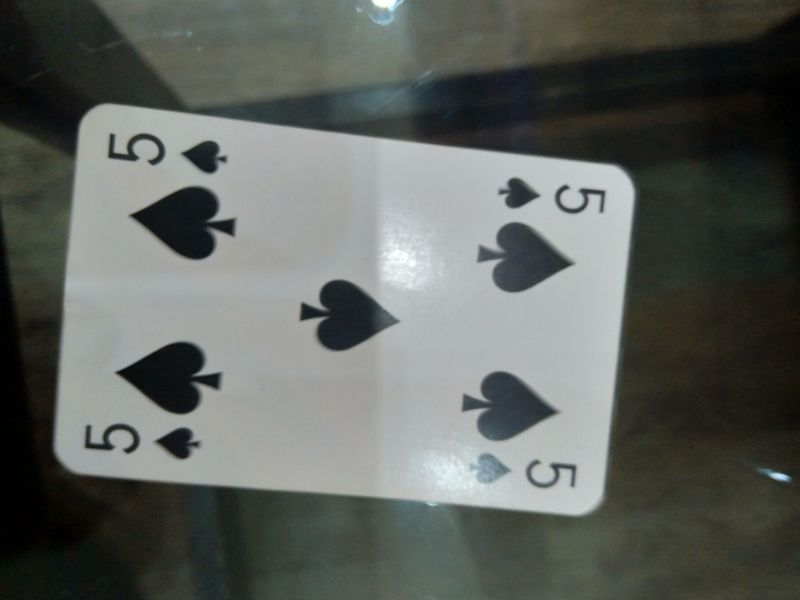5s: (104, 129, 232, 179), (465, 448, 584, 498), (83, 418, 206, 465), (495, 171, 609, 219)
